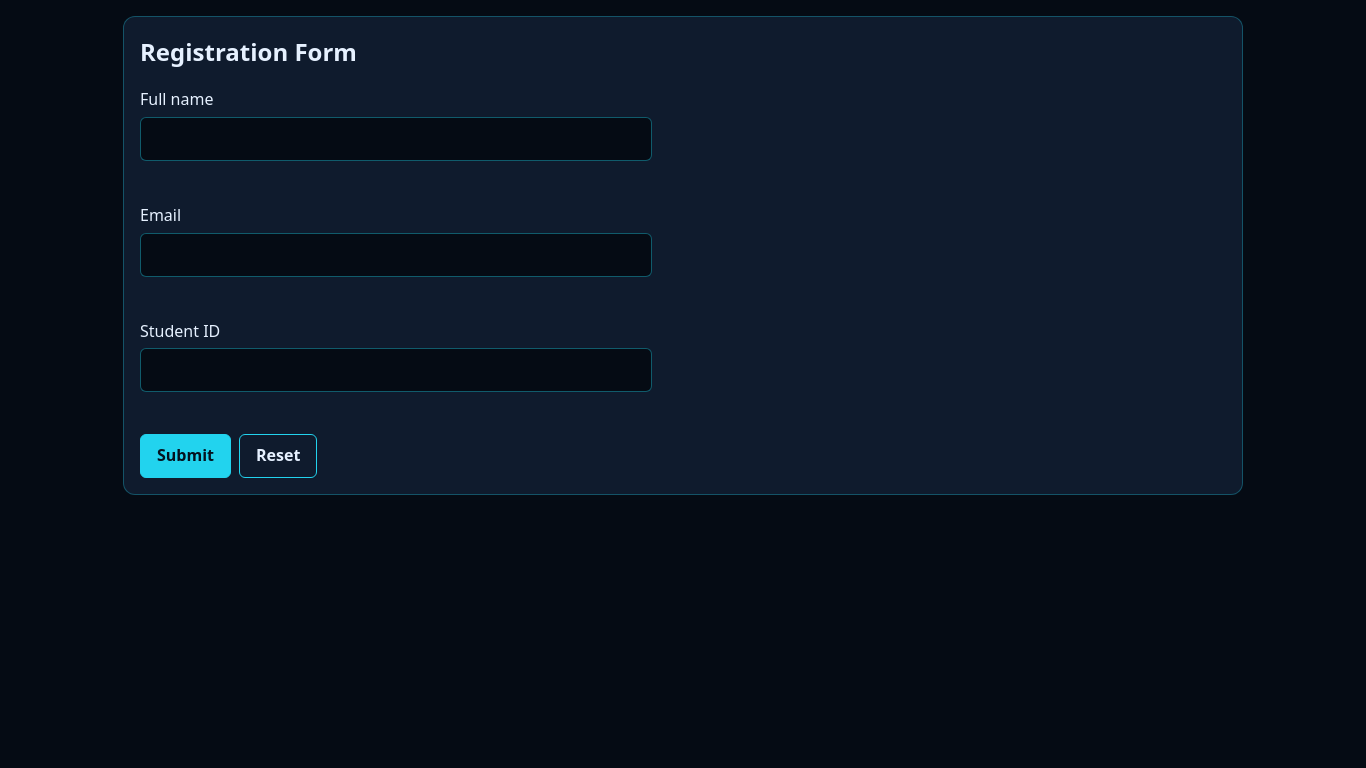
Test: SimpleForm › reset clears the values, errors and inspector
Type "Nguyen Thai" into the field labelled "Full name" at (396, 139), box 140,117 -> 652,161
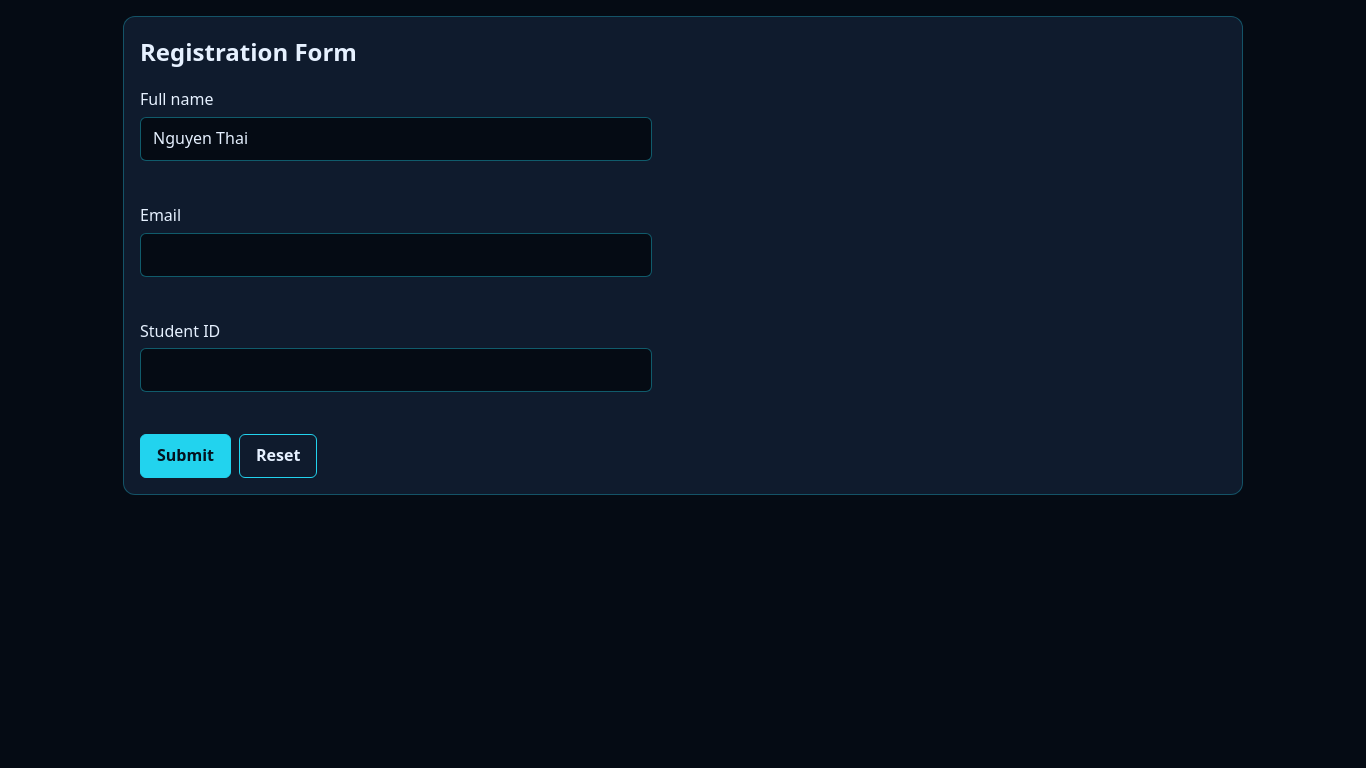
Type "nguyen@example.com" into the field labelled "Email" at (396, 255), box 140,233 -> 652,277
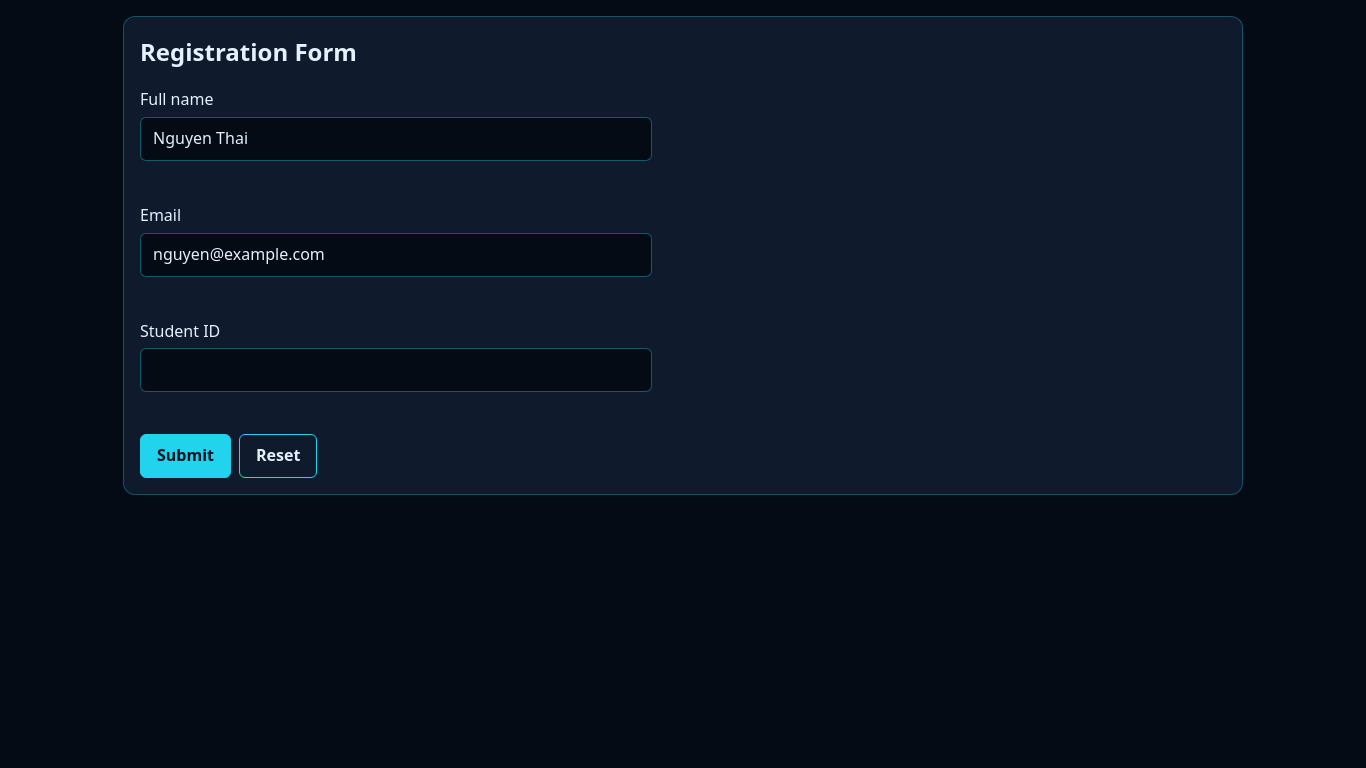
Type "24521198" into the field labelled "Student ID" at (396, 370), box 140,348 -> 652,392
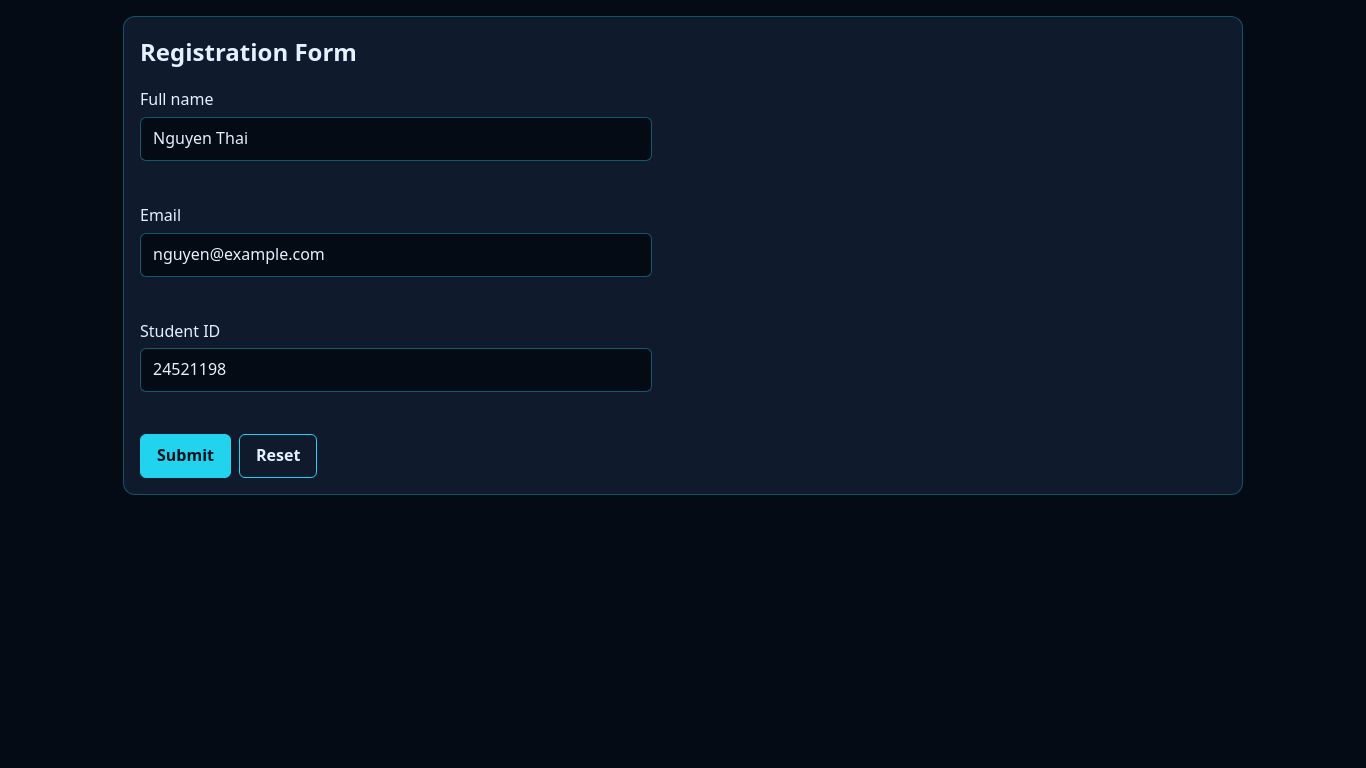
Click the button "Submit" at (186, 456), box 140,434 -> 231,478
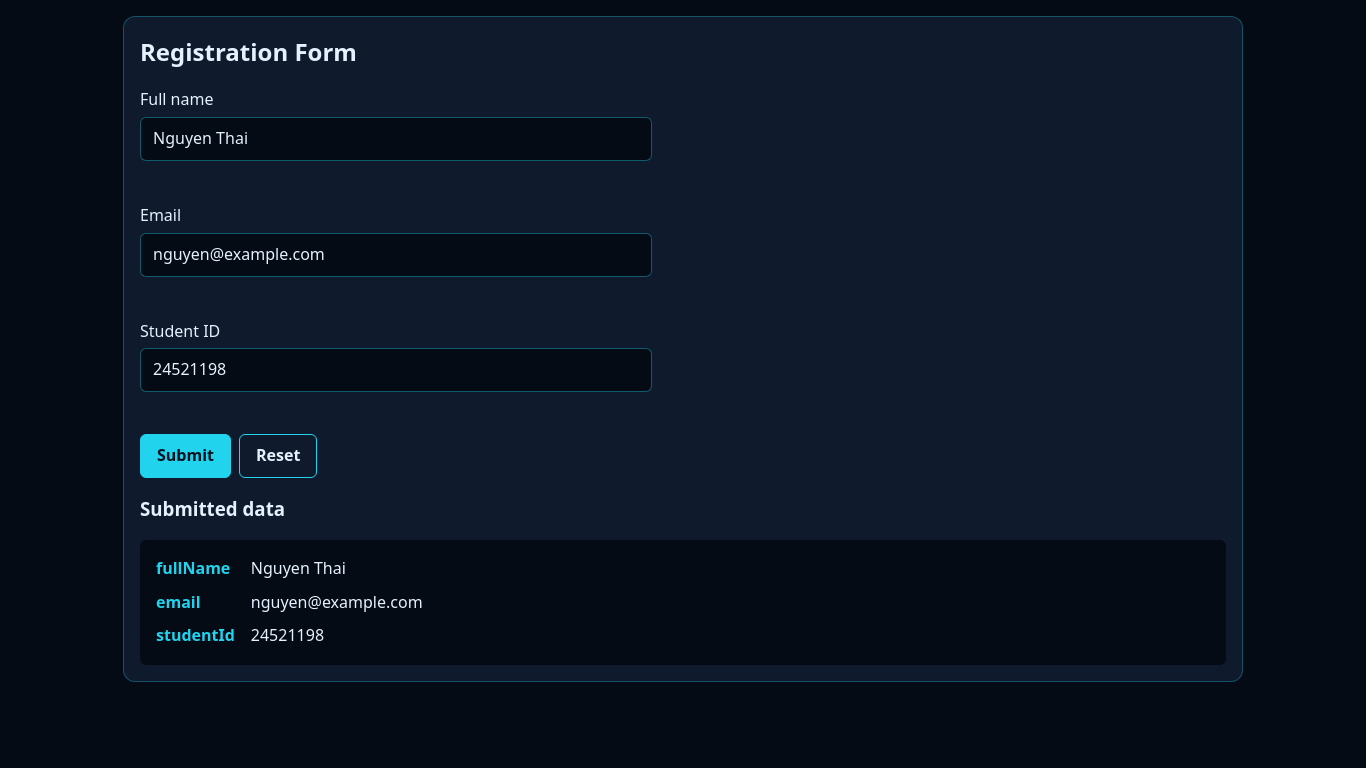
Click the button "Reset" at (278, 456), box 239,434 -> 317,478
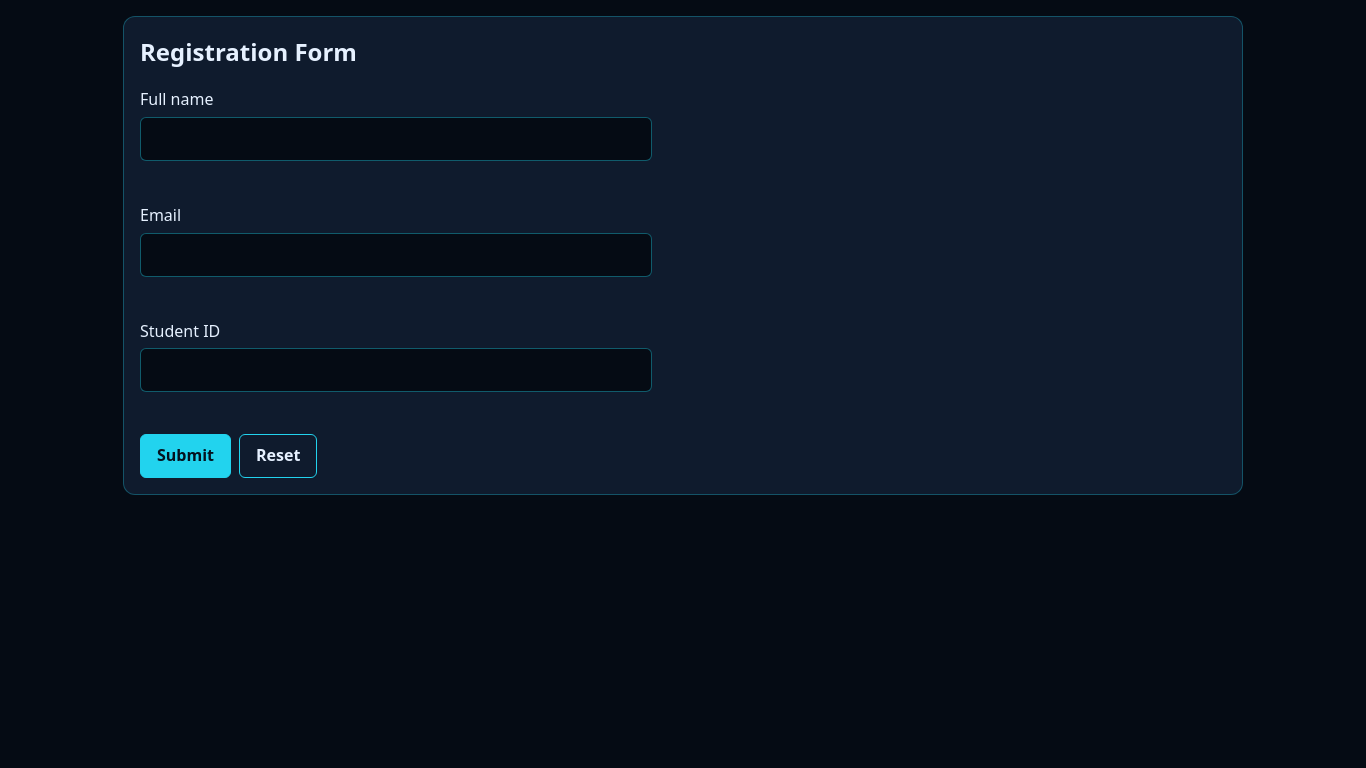
Check: the field labelled "Full name" is empty, box 140,117 -> 652,161
Check: the heading "Submitted data" is gone
